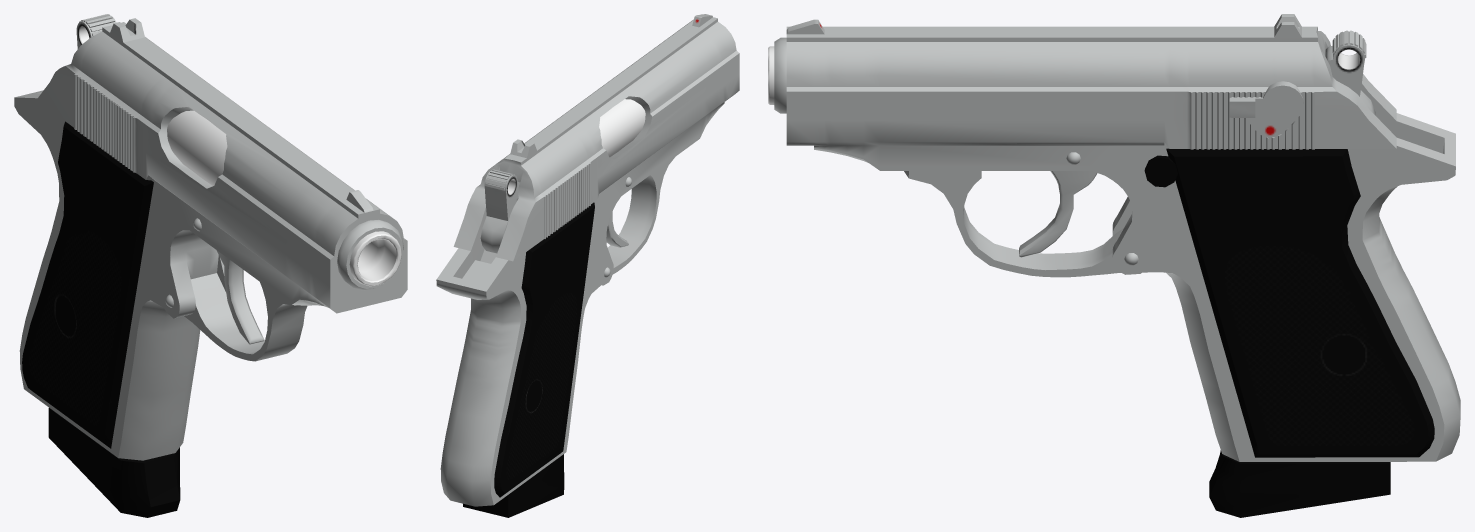
File: ppk.glb
3 views of the same model, side by side, from view 1: azimuth 30°, elevation 25°; view 2: azimuth 150°, elevation 25°; view 3: azimuth 270°, elevation 25° (orthographic). The views are drawn at different scales.
Visible parts, largest first — view 1: pCylinder18; view 2: pCylinder18; view 3: pCylinder18.
Part boxes in pixels (box(x1,y1,x2,y2)): pCylinder18: box(14, 14, 407, 517); pCylinder18: box(436, 14, 739, 517); pCylinder18: box(768, 14, 1460, 517).
Bounding box in the file's own units: 0.0314 × 0.1578 × 0.2048.
Materials: 1 (1 with a texture image).
